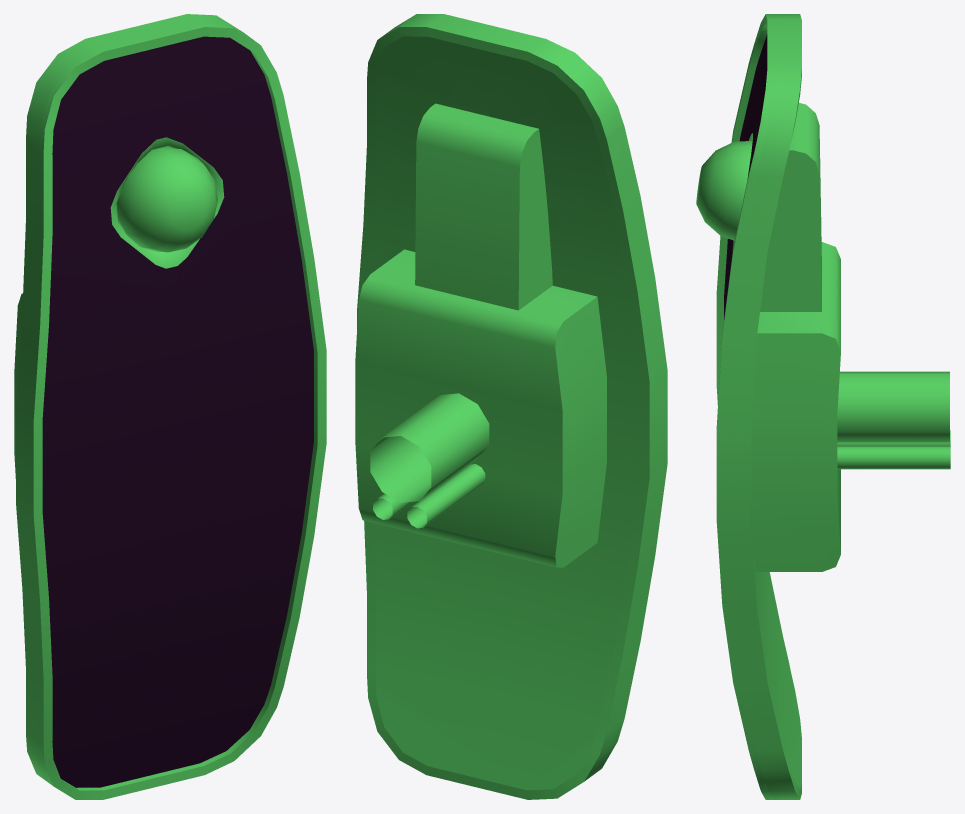
File: doorControl.fbx
3 renders of one model, left to right at view 1: azimuth 30°, elevation 25°; view 2: azimuth 150°, elevation 25°; view 3: azimuth 270°, elevation 25°, orthographic. The views are drawn at different scales.
Parts seen in each view (by area): view 1: Plane.004; view 2: Plane.004; view 3: Plane.004.
Part boxes in pixels (bbox=[...]): Plane.004: bbox=[14, 14, 326, 799]; Plane.004: bbox=[355, 14, 667, 799]; Plane.004: bbox=[696, 14, 950, 799].
Size of the model in its own units: 8423 by 20558 by 6531.
